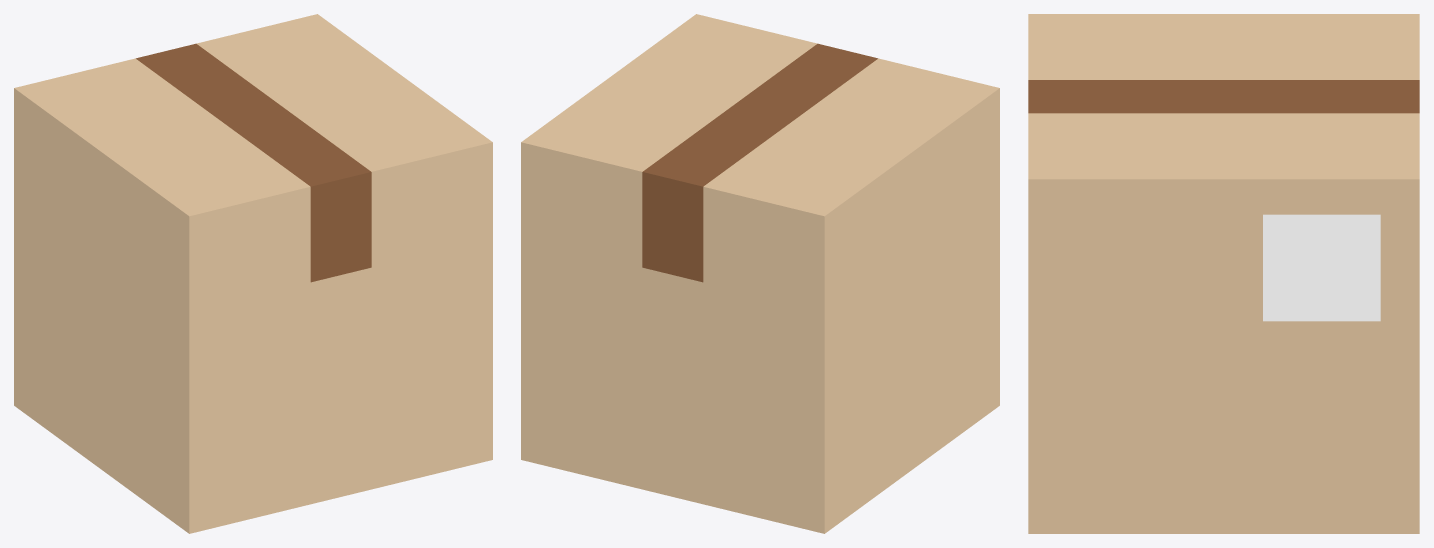
Rendered from package-box.glb.
3 views of the same model, side by side, from view 1: azimuth 30°, elevation 25°; view 2: azimuth 150°, elevation 25°; view 3: azimuth 270°, elevation 25° (orthographic). The views are drawn at different scales.
Visible parts, largest first — view 1: package-box; view 2: package-box; view 3: package-box.
Boxes of the visible parts, x1,y1,x2,y2 form: package-box: (14,14,492,533); package-box: (521,14,999,533); package-box: (1028,14,1419,533).
Bounding box in the file's own units: 0.75 × 0.75 × 0.75.
Materials: 1 (1 with a texture image).
